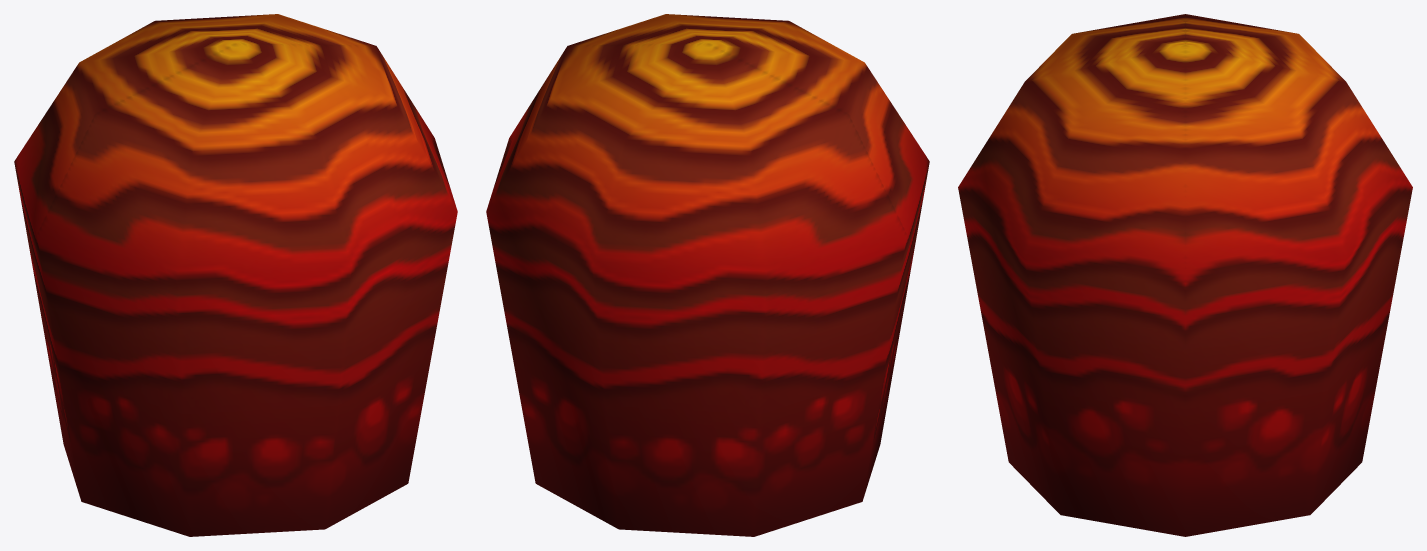
File: Coral_29a.FBX
3 views of the same model, side by side, from view 1: azimuth 30°, elevation 25°; view 2: azimuth 150°, elevation 25°; view 3: azimuth 270°, elevation 25° (orthographic).
Parts seen in each view (by area): view 1: Coral_29a; view 2: Coral_29a; view 3: Coral_29a.
Part boxes in pixels (x1=…): Coral_29a: x1=14, y1=14, x2=457, y2=536; Coral_29a: x1=486, y1=14, x2=929, y2=536; Coral_29a: x1=958, y1=14, x2=1412, y2=536.
Size of the model in its own units: 15.99 by 16.15 by 15.99.
